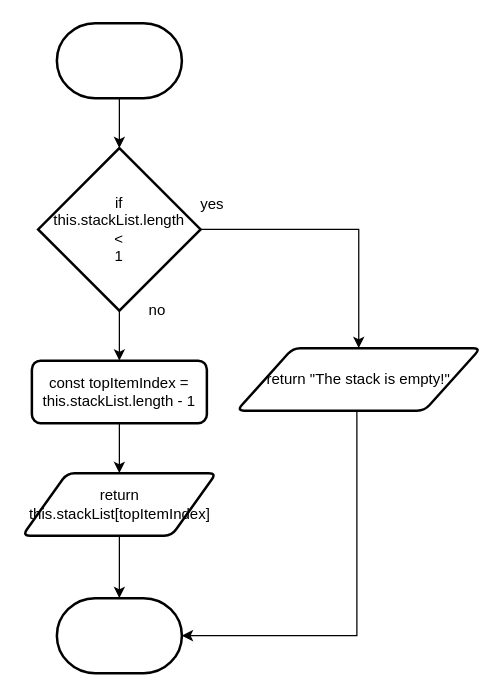
This 504x695 diagram has some shape labels left out. The shapes that lost their labels are listed below. From the top down, each one's centre as x and y in pixels, then its label:
At [118,60]: "Start".
At [118,635]: "Stop".
